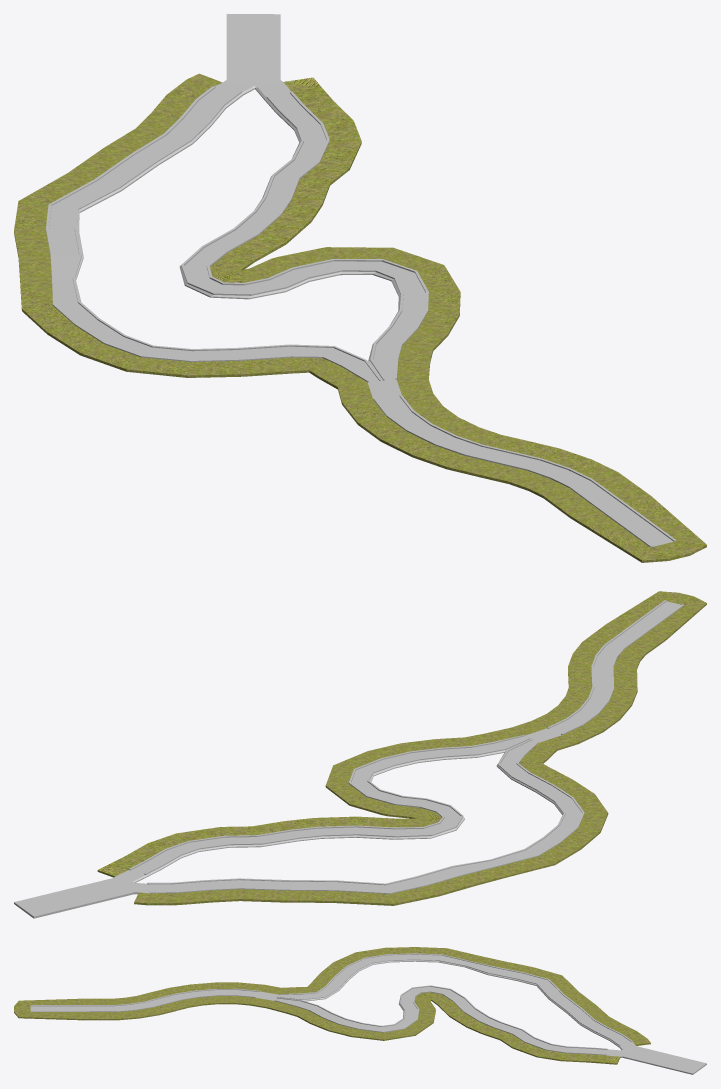
File: TorLevel01.fbx
The picture shows the model from 3 angles, top to bottom: view 1: azimuth 30°, elevation 25°; view 2: azimuth 150°, elevation 25°; view 3: azimuth 270°, elevation 25°; orthographic projection. The views are drawn at different scales.
Visible parts, largest first — view 1: Cube; view 2: Cube; view 3: Cube.
Part boxes in pixels (x1,y1,x2,y2): Cube: (14, 14, 706, 562); Cube: (14, 591, 706, 918); Cube: (14, 947, 706, 1074).
Size of the model in its own units: 42568 by 323 by 98390.
